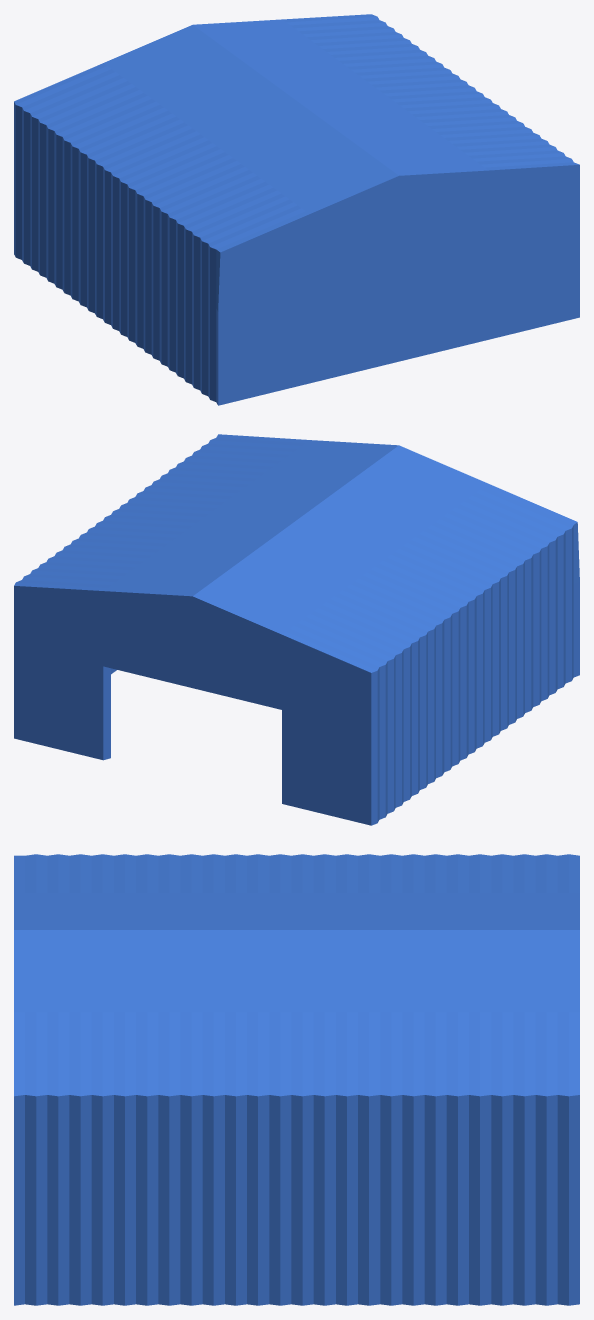
File: Hangar.glb
3 views of the same model, one above another, from view 1: azimuth 30°, elevation 25°; view 2: azimuth 150°, elevation 25°; view 3: azimuth 270°, elevation 25° (orthographic). The views are drawn at different scales.
Parts seen in each view (by area): view 1: Cube; view 2: Cube; view 3: Cube.
Part boxes in pixels (x1,y1,x2,y2): Cube: [14, 14, 579, 405]; Cube: [14, 434, 579, 825]; Cube: [14, 854, 579, 1305].
Bounding box in the file's own units: 14.87 × 7.3 × 14.69.
